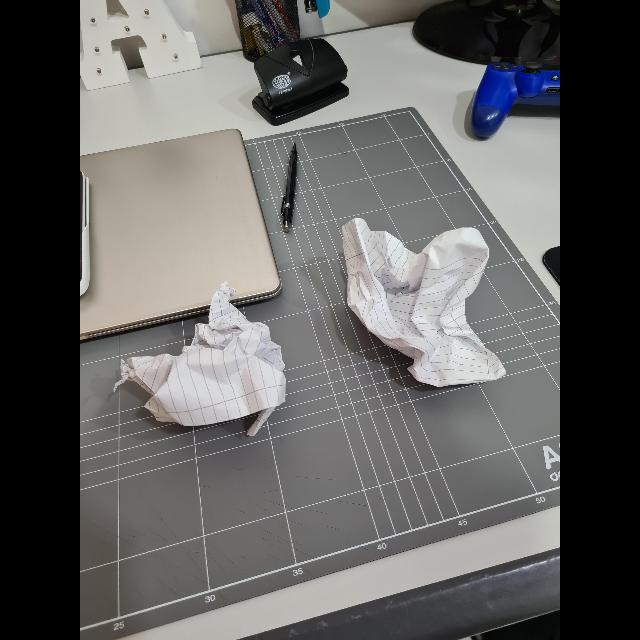scrap_paper: (344, 216, 502, 392), (123, 292, 285, 436)
